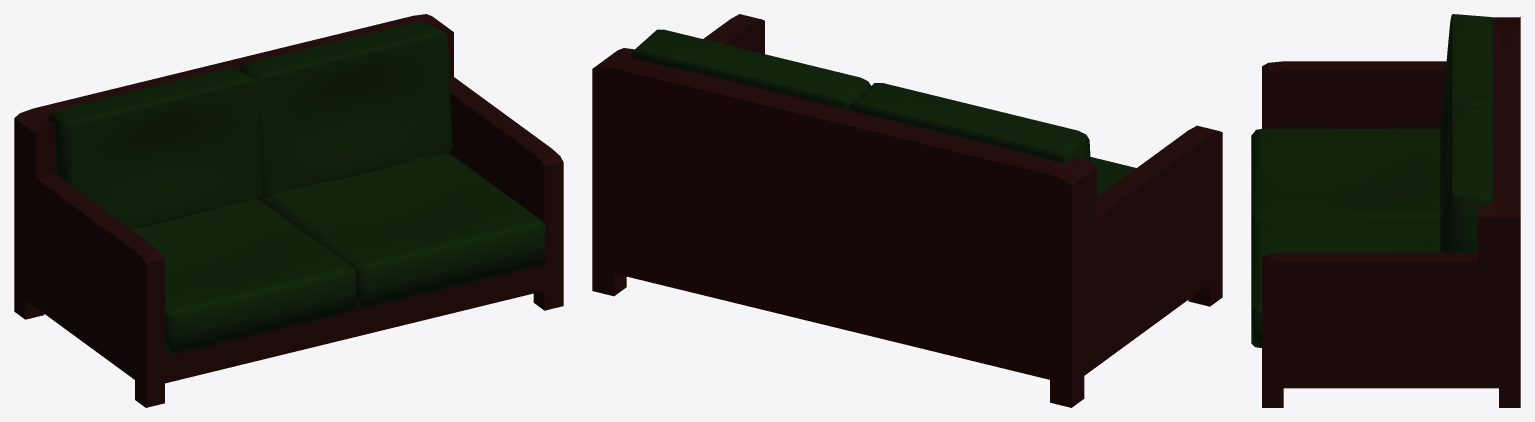
The model's file is couch (1).fbx.
The picture shows the model from 3 angles, left to right: view 1: azimuth 30°, elevation 25°; view 2: azimuth 150°, elevation 25°; view 3: azimuth 270°, elevation 25°; orthographic projection. The views are drawn at different scales.
Parts seen in each view (by area): view 1: couch; view 2: couch; view 3: couch.
Boxes of the visible parts, box(x1,y1,x2,y2) form: couch: box(14, 14, 563, 407); couch: box(592, 14, 1222, 407); couch: box(1251, 14, 1520, 407).
Bounding box in the file's own units: 440 × 211 × 250.
